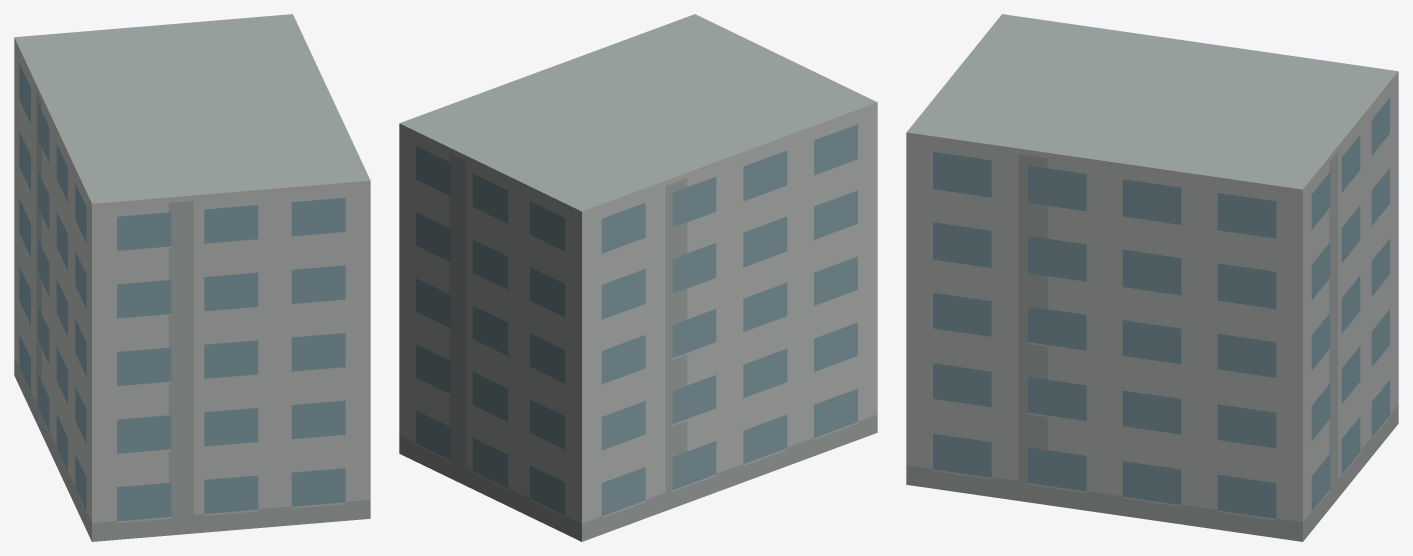
Rendered from residential-978774e3-f7a6-440f-b10c-98f4321bce5f.glb.
The picture shows the model from 3 angles, left to right: view 1: azimuth 30°, elevation 25°; view 2: azimuth 150°, elevation 25°; view 3: azimuth 270°, elevation 25°; orthographic projection. The views are drawn at different scales.
Parts seen in each view (by area): view 1: residential-978774e3-f7a6-440f-b10c-98f4321bce5f.tmp; view 2: residential-978774e3-f7a6-440f-b10c-98f4321bce5f.tmp; view 3: residential-978774e3-f7a6-440f-b10c-98f4321bce5f.tmp.
Boxes of the visible parts, <box> form: residential-978774e3-f7a6-440f-b10c-98f4321bce5f.tmp: <box>14,14,370,541</box>; residential-978774e3-f7a6-440f-b10c-98f4321bce5f.tmp: <box>399,14,877,541</box>; residential-978774e3-f7a6-440f-b10c-98f4321bce5f.tmp: <box>906,14,1398,541</box>.
Bounding box in the file's own units: 16.3 × 15.25 × 19.31.
